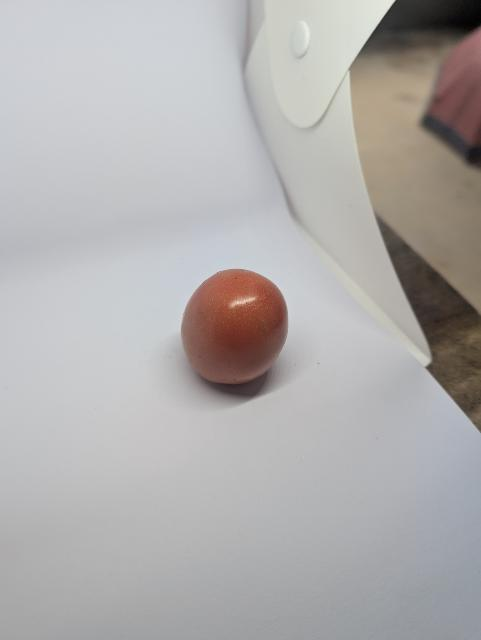red: (160, 238, 355, 432)
